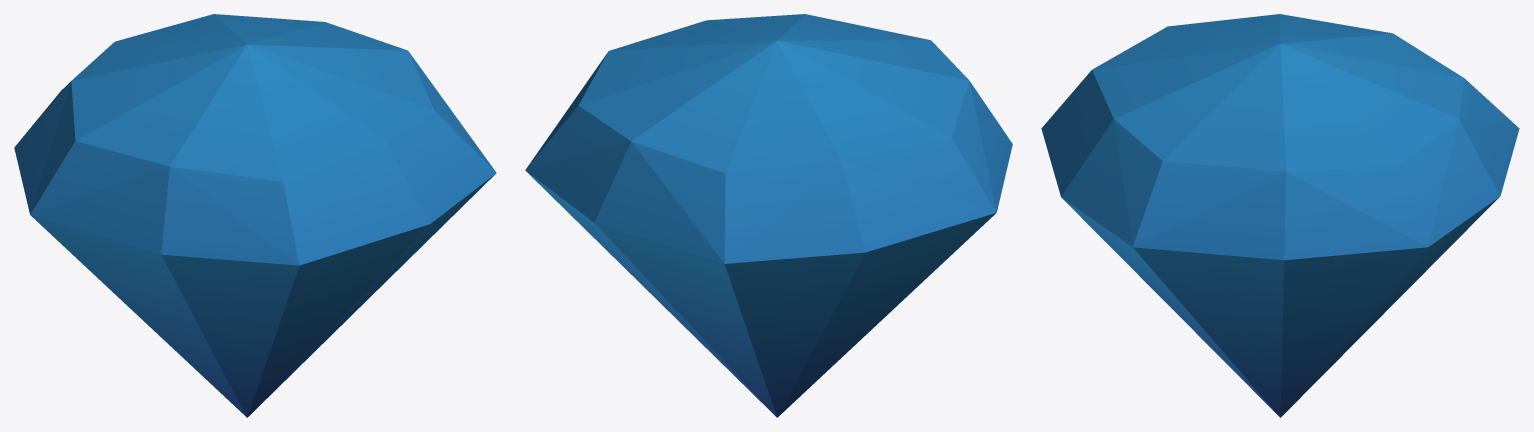
The model's file is BlueGem.glb.
3 views of the same model, side by side, from view 1: azimuth 30°, elevation 25°; view 2: azimuth 150°, elevation 25°; view 3: azimuth 270°, elevation 25° (orthographic).
Parts seen in each view (by area): view 1: GemRed; view 2: GemRed; view 3: GemRed.
Part boxes in pixels (x1,y1,x2,y2): GemRed: [14, 14, 496, 417]; GemRed: [525, 14, 1012, 417]; GemRed: [1041, 14, 1519, 417].
Size of the model in its own units: 1.04 by 0.8836 by 1.02.
1 material, 1 textured.
